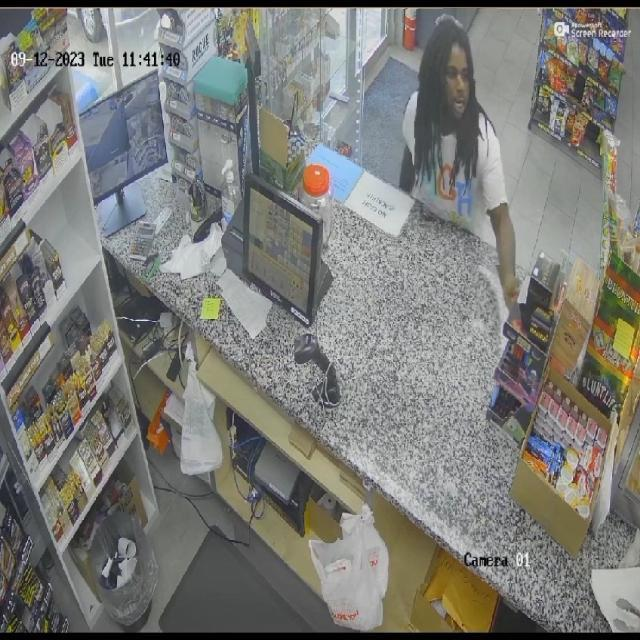Normal: (387, 9, 500, 265)
